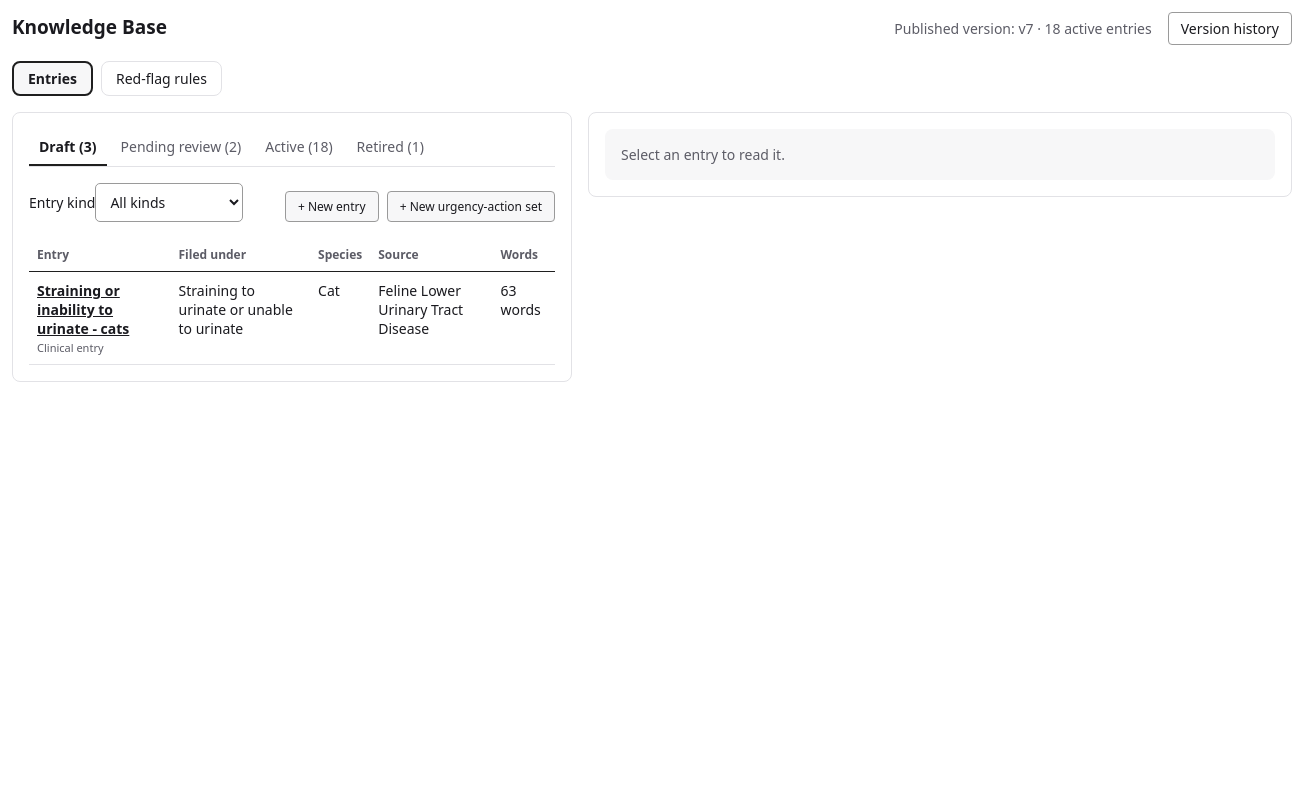
Test case: who may approve (BR-04, FR-52) › gives the administrator the draft controls instead
Step 1. Click the button "Straining or inability to urinate - cats" → (100,310), box [37,281,162,338]
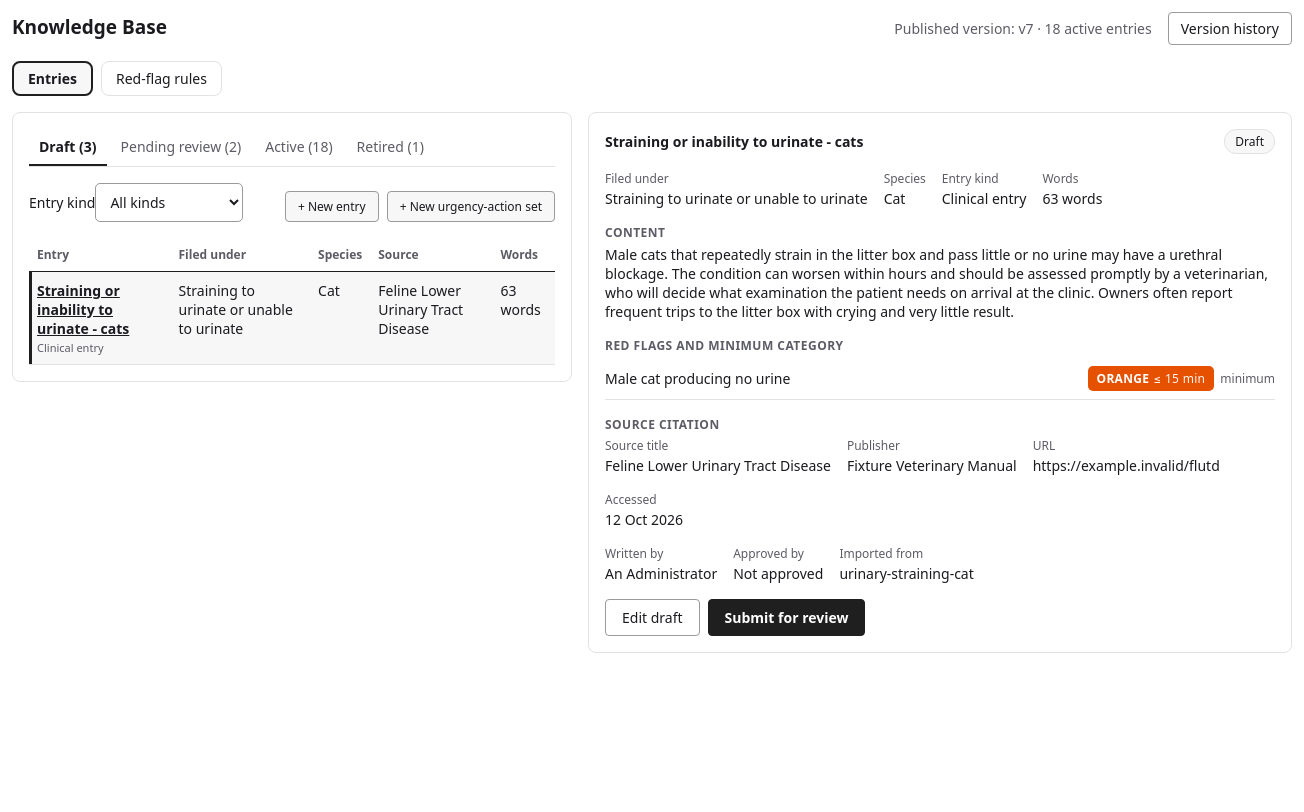
Expected: the button "+ New entry" is shown, [285,191,379,222]
Result: the button "Edit draft" is shown at [605,599,700,636]
Result: the button "Submit for review" is shown at [708,599,865,636]
